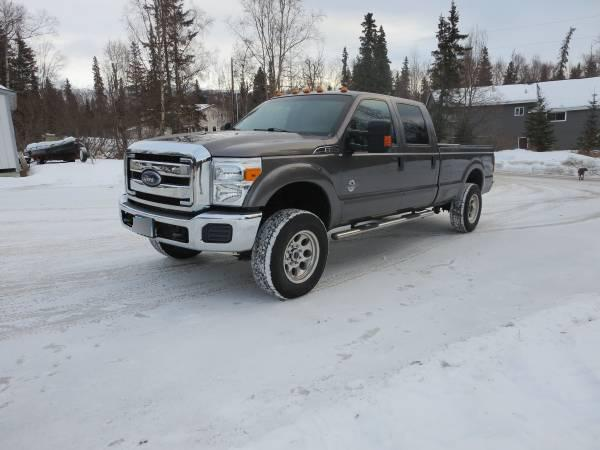Front_Bumper: (117, 194, 262, 250)
Front_Fender: (242, 151, 345, 235)
Front_Left_Door: (342, 144, 402, 227)
Front_Left_Window: (338, 101, 404, 148)
Front_Windshield: (230, 96, 355, 139)
Grille: (123, 151, 211, 211)
Hood: (125, 129, 338, 155)
Left_Headlight: (211, 158, 260, 207)
Rear_Fender: (434, 145, 493, 203)
Rear_Left_Door: (401, 143, 440, 211)
Rear_Left_Window: (396, 104, 432, 145)
Roof: (309, 93, 437, 143)
Wheel: (251, 204, 330, 298), (449, 180, 484, 233)
